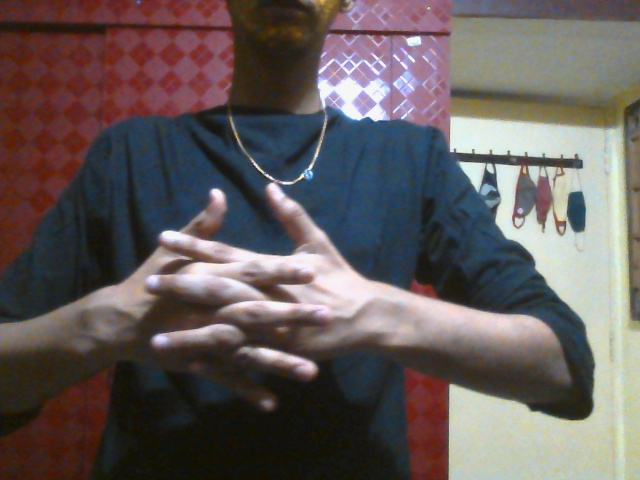W: (137, 183, 349, 429)
